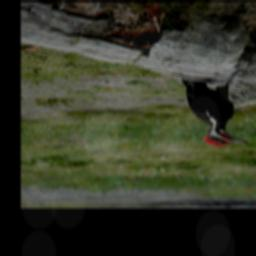Woodpecker: (180, 74, 248, 150)
